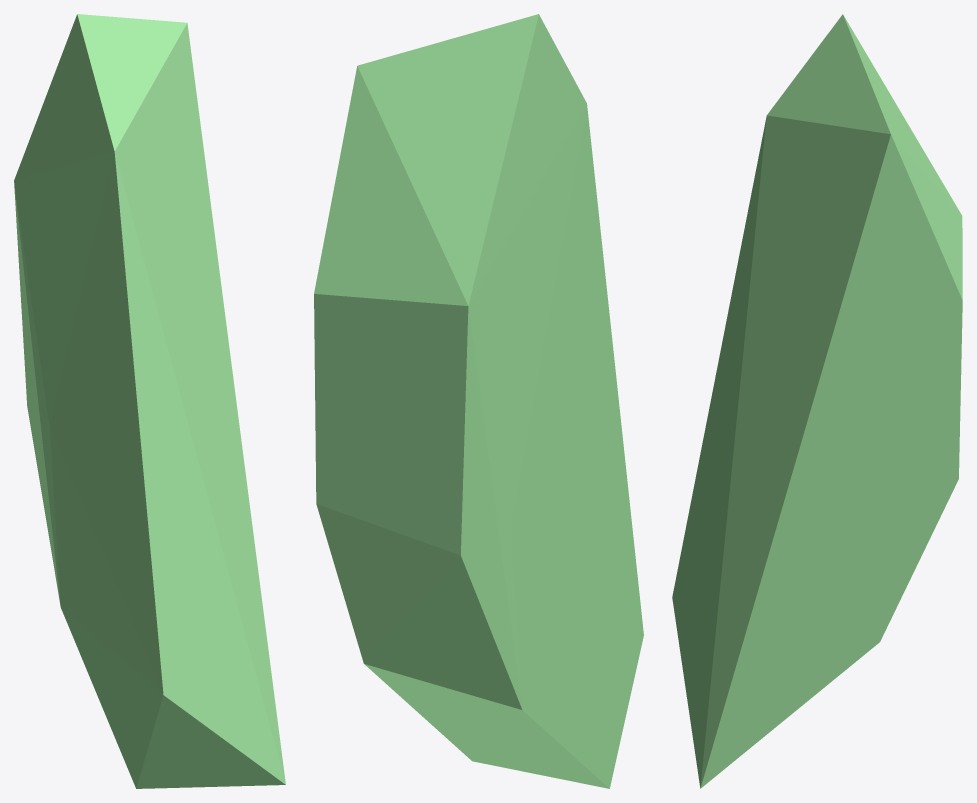
The model's file is linkhou_LR4_R560_link7_respondable_coll_27.dae.
3 renders of one model, left to right at view 1: azimuth 30°, elevation 25°; view 2: azimuth 150°, elevation 25°; view 3: azimuth 270°, elevation 25°, orthographic. The views are drawn at different scales.
Visible parts, largest first — view 1: Node_0000029808435390; view 2: Node_0000029808435390; view 3: Node_0000029808435390.
Boxes of the visible parts, left/top/right/bottom form: Node_0000029808435390: left=14, top=14, right=285, bottom=788; Node_0000029808435390: left=314, top=14, right=643, bottom=788; Node_0000029808435390: left=672, top=14, right=962, bottom=788.
Bounding box in the file's own units: 0.0061 × 0.0313 × 0.0116.
